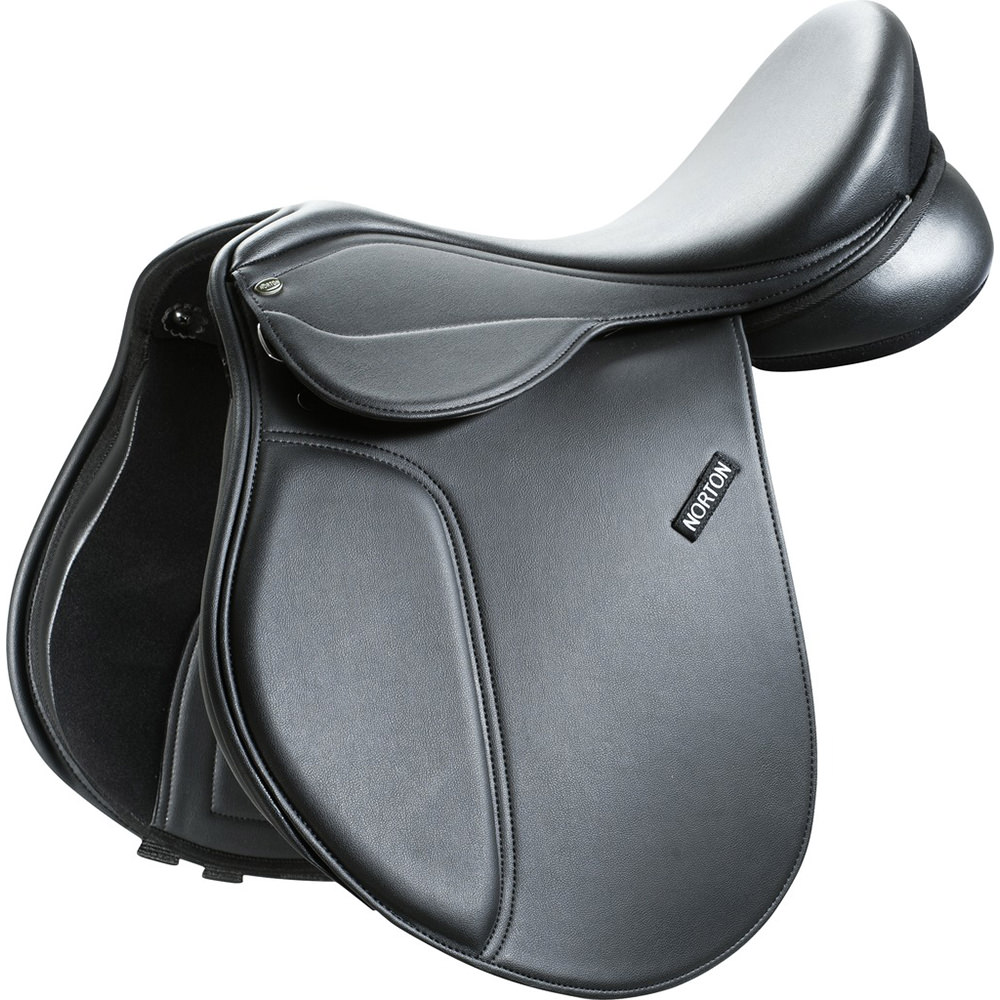saddle: (40, 30, 983, 829)
